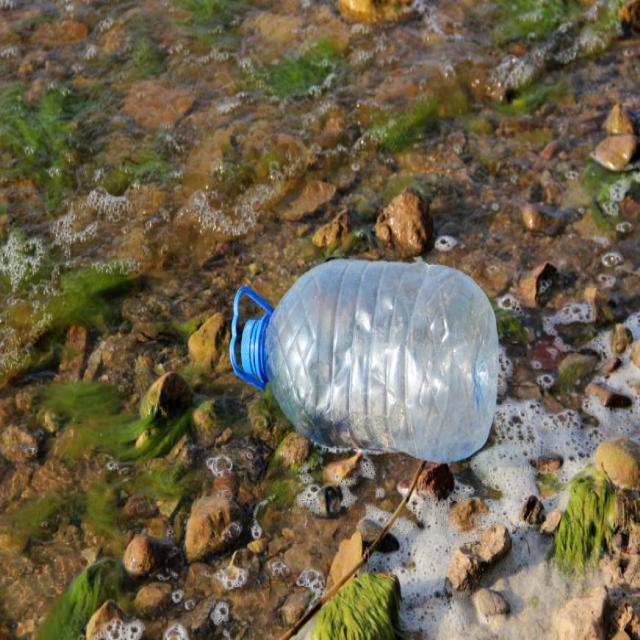bottle: (221, 248, 505, 492)
